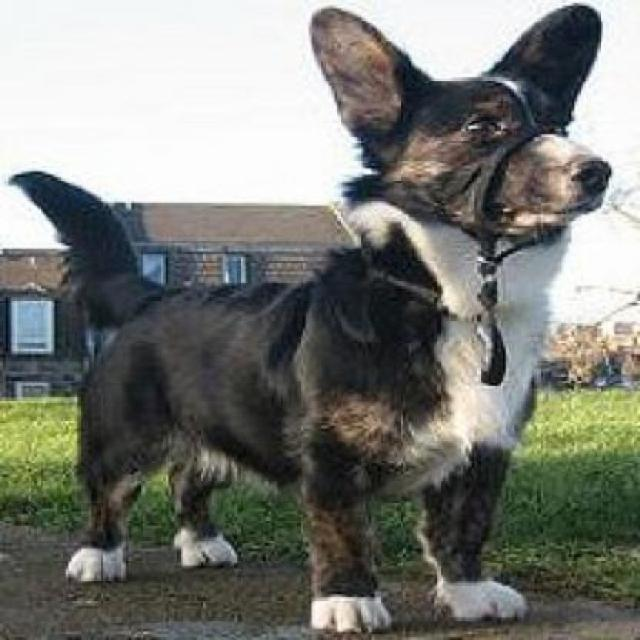Dog: (9, 4, 614, 636)
